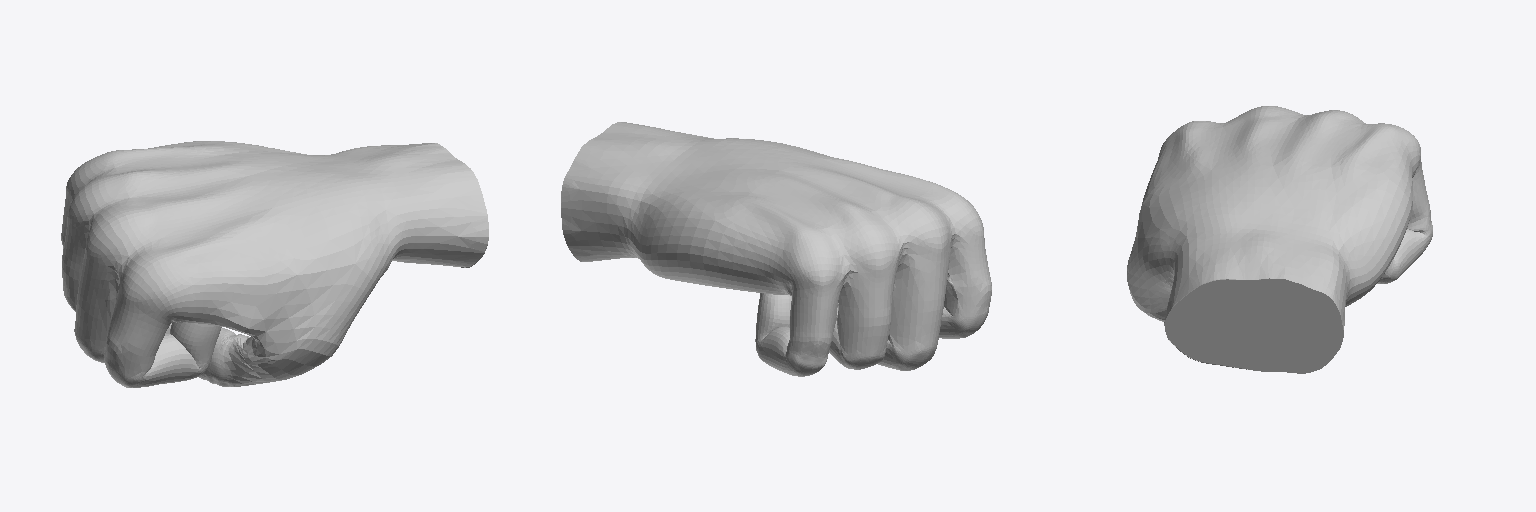
File: KnockHand.obj
3 views of the same model, side by side, from view 1: azimuth 30°, elevation 25°; view 2: azimuth 150°, elevation 25°; view 3: azimuth 270°, elevation 25° (orthographic).
Visible parts, largest first — view 1: Hand_Fist; view 2: Hand_Fist; view 3: Hand_Fist.
Part boxes in pixels (x1,y1,x2,y2): Hand_Fist: (61,141,488,387); Hand_Fist: (561,122,991,376); Hand_Fist: (1127,106,1432,373).
Size of the model in its own units: 17.43 by 8.27 by 12.61.